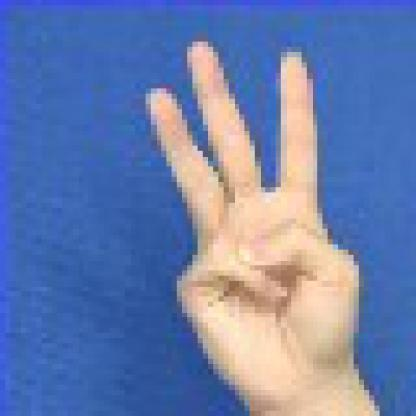three: (142, 29, 378, 409)
